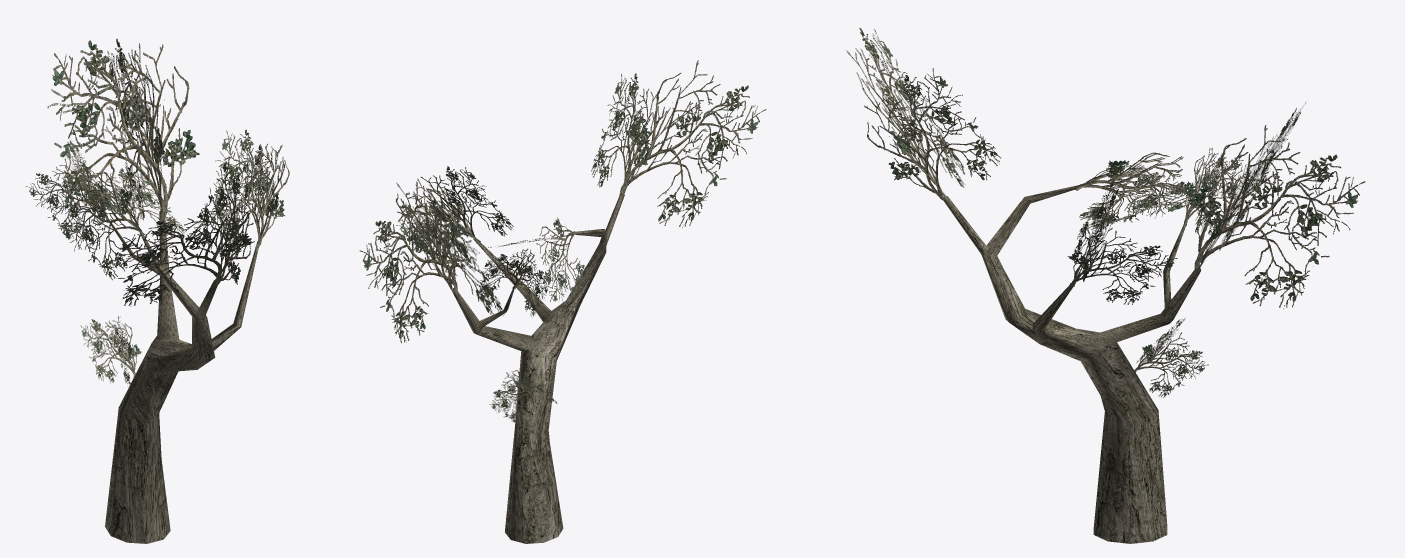
Rendered from mtns_shrb_gnarled_l1.fbx.
The picture shows the model from 3 angles, left to right: view 1: azimuth 30°, elevation 25°; view 2: azimuth 150°, elevation 25°; view 3: azimuth 270°, elevation 25°; orthographic projection. The views are drawn at different scales.
Parts seen in each view (by area): view 1: mesh_node; view 2: mesh_node; view 3: mesh_node.
Boxes of the visible parts, x1,y1,x2,y2 form: mesh_node: [26, 38, 289, 543]; mesh_node: [359, 60, 766, 543]; mesh_node: [846, 28, 1365, 543].
Bounding box in the file's own units: 3.64 × 4.95 × 5.3.
